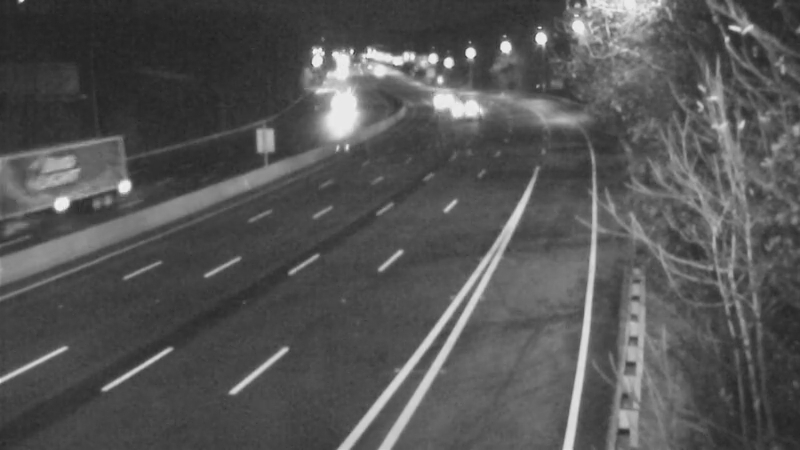vehicle: (15, 147, 95, 227), (412, 75, 462, 125), (438, 85, 488, 135), (318, 82, 368, 132)
